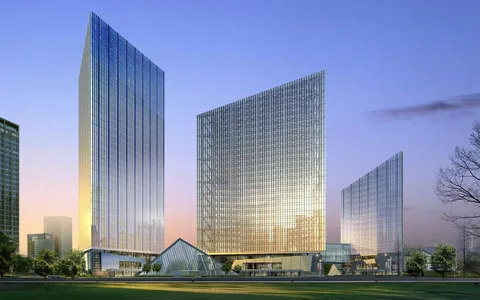high_rise_building: (67, 7, 171, 258), (193, 66, 329, 255)
